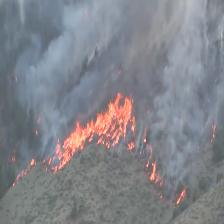fire: (100, 94, 135, 136), (63, 122, 95, 162)
smoke: (30, 4, 224, 92), (2, 2, 28, 153), (155, 95, 208, 157)
